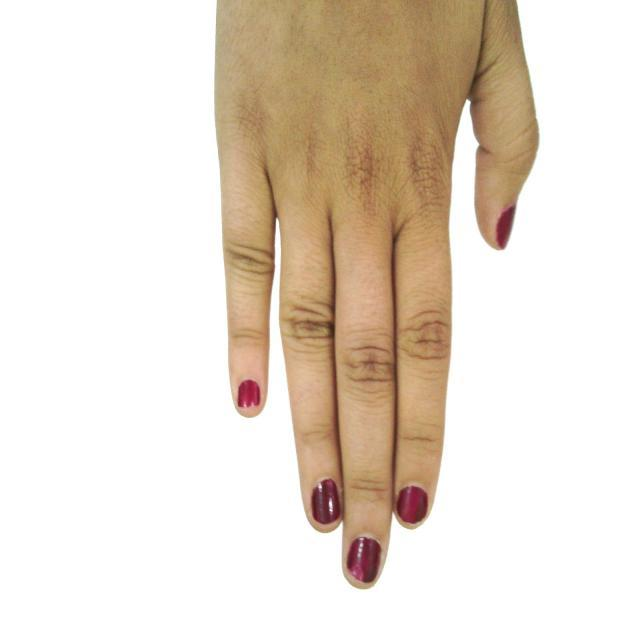Fingernail: (348, 536, 381, 585), (313, 479, 340, 526), (398, 487, 427, 525), (497, 207, 515, 249), (238, 381, 260, 411)
